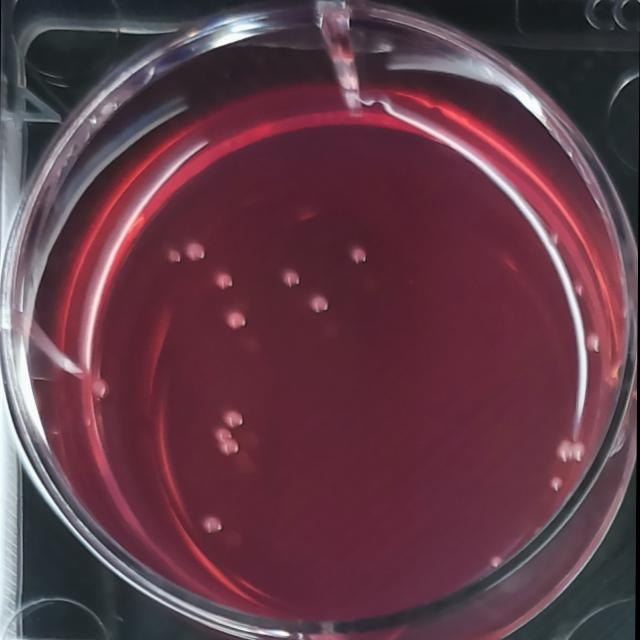Bacillus: (555, 432, 595, 464), (340, 240, 375, 270), (221, 301, 253, 333), (275, 264, 306, 296), (85, 373, 116, 403), (301, 290, 333, 319), (198, 509, 226, 539), (210, 268, 238, 298), (182, 235, 210, 264), (221, 408, 245, 430), (218, 437, 240, 458), (165, 246, 185, 269), (545, 474, 565, 495), (211, 426, 234, 444), (583, 331, 601, 354)
